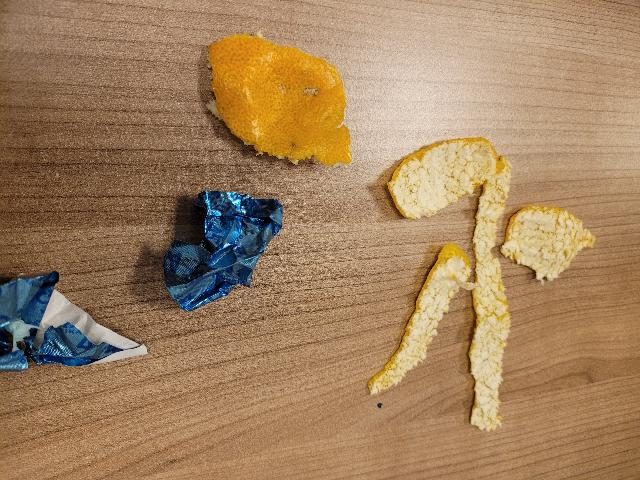Organik: (371, 123, 602, 436), (183, 35, 363, 171)
Plastik: (158, 187, 286, 341), (0, 277, 161, 379)
